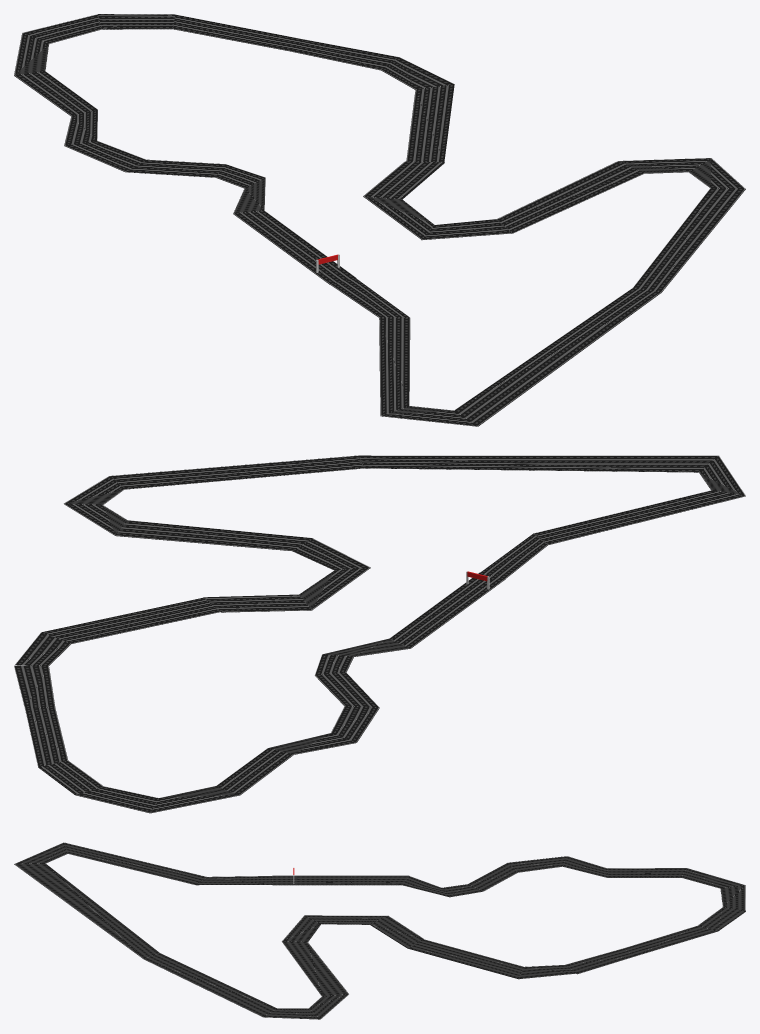
Rendered from Course01_Road.fbx.
3 renders of one model, top to bottom at view 1: azimuth 30°, elevation 25°; view 2: azimuth 150°, elevation 25°; view 3: azimuth 270°, elevation 25°, orthographic. The views are drawn at different scales.
Parts seen in each view (by area): view 1: Box025, Box026, Box005, Box014, Box012, Box020, Box013, Box017, Box011, Box001, Box016, Box003 (+13 smaller); view 2: Box025, Box026, Box005, Box012, Box014, Box020, Box013, Box017, Box011, Box001, Box003, Box006 (+14 smaller); view 3: Box025, Box026, Box012, Box014, Box005, Box020, Box001, Box013, Box017, Box011, Box006, Box003 (+14 smaller).
Part boxes in pixels (x1=…): Box025: x1=454, y1=288, x2=661, y2=426; Box026: x1=633, y1=188, x2=745, y2=291; Box005: x1=496, y1=161, x2=644, y2=233; Box014: x1=406, y1=84, x2=454, y2=162; Box012: x1=379, y1=317, x2=410, y2=415; Box020: x1=173, y1=14, x2=304, y2=51; Box013: x1=363, y1=161, x2=444, y2=199; Box017: x1=14, y1=71, x2=97, y2=115; Box011: x1=292, y1=39, x2=398, y2=70; Box001: x1=273, y1=237, x2=356, y2=284; Box016: x1=125, y1=159, x2=225, y2=177; Box003: x1=330, y1=278, x2=409, y2=317; Box025: x1=358, y1=455, x2=718, y2=472; Box026: x1=110, y1=455, x2=364, y2=489; Box005: x1=115, y1=520, x2=313, y2=551; Box012: x1=534, y1=490, x2=745, y2=544; Box014: x1=42, y1=597, x2=219, y2=643; Box020: x1=25, y1=707, x2=68, y2=766; Box013: x1=203, y1=594, x2=312, y2=612; Box017: x1=216, y1=748, x2=293, y2=794; Box011: x1=14, y1=665, x2=55, y2=708; Box001: x1=425, y1=572, x2=505, y2=618; Box003: x1=480, y1=533, x2=547, y2=578; Box006: x1=299, y1=567, x2=369, y2=609; Box025: x1=14, y1=863, x2=159, y2=958; Box026: x1=144, y1=953, x2=276, y2=1016; Box012: x1=64, y1=842, x2=206, y2=884; Box014: x1=409, y1=939, x2=523, y2=978; Box005: x1=282, y1=941, x2=348, y2=996; Box020: x1=623, y1=925, x2=717, y2=955; Box001: x1=272, y1=875, x2=351, y2=885; Box013: x1=370, y1=915, x2=423, y2=948; Box017: x1=607, y1=868, x2=686, y2=877; Box011: x1=565, y1=948, x2=635, y2=974; Box006: x1=305, y1=915, x2=387, y2=924; Box003: x1=196, y1=876, x2=272, y2=885.
Size of the model in its own units: 26366 by 46102 by 640.
